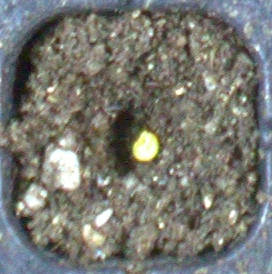pepper seed: (52, 48, 211, 211)
